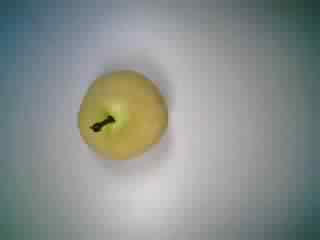pear: (69, 61, 178, 168)
